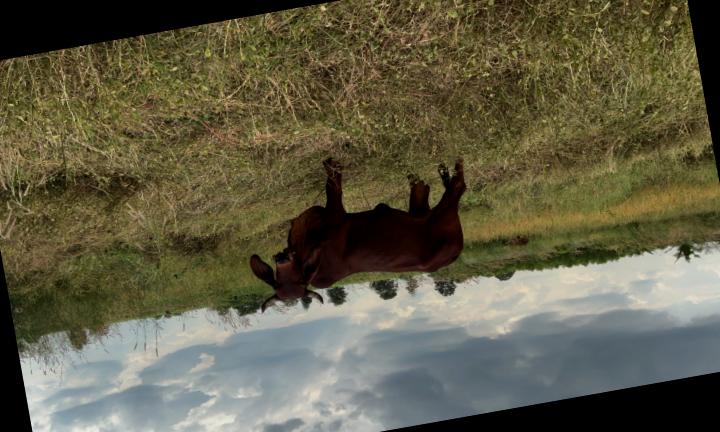Brahman: (250, 160, 466, 312)
